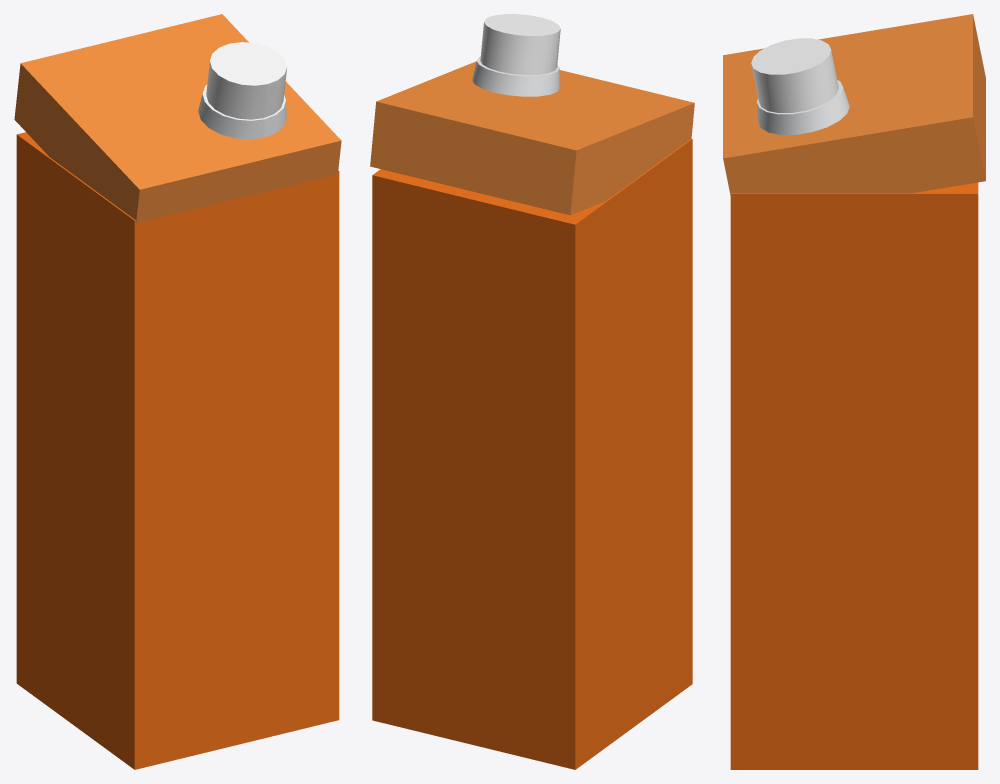
File: juice-carton.glb
3 renders of one model, left to right at view 1: azimuth 30°, elevation 25°; view 2: azimuth 150°, elevation 25°; view 3: azimuth 270°, elevation 25°, orthographic. The views are drawn at different scales.
Parts seen in each view (by area): view 1: Carton_Box, Carton_Sloped_Top, Spout_Cap, Spout_Collar; view 2: Carton_Box, Carton_Sloped_Top, Spout_Cap, Spout_Collar; view 3: Carton_Box, Carton_Sloped_Top, Spout_Cap, Spout_Collar.
Boxes of the visible parts, bbox=[...] form: Carton_Box: bbox=[16, 132, 339, 769]; Carton_Sloped_Top: bbox=[14, 14, 341, 223]; Spout_Cap: bbox=[206, 42, 287, 119]; Spout_Collar: bbox=[198, 84, 286, 139]; Carton_Box: bbox=[372, 138, 692, 769]; Carton_Sloped_Top: bbox=[370, 61, 694, 215]; Spout_Cap: bbox=[480, 14, 560, 75]; Spout_Collar: bbox=[472, 56, 560, 96]; Carton_Box: bbox=[730, 182, 978, 769]; Carton_Sloped_Top: bbox=[723, 14, 985, 195]; Spout_Cap: bbox=[751, 38, 838, 112]; Spout_Collar: bbox=[756, 80, 849, 134].
Size of the model in its own units: 0.076 by 0.2331 by 0.0807.
